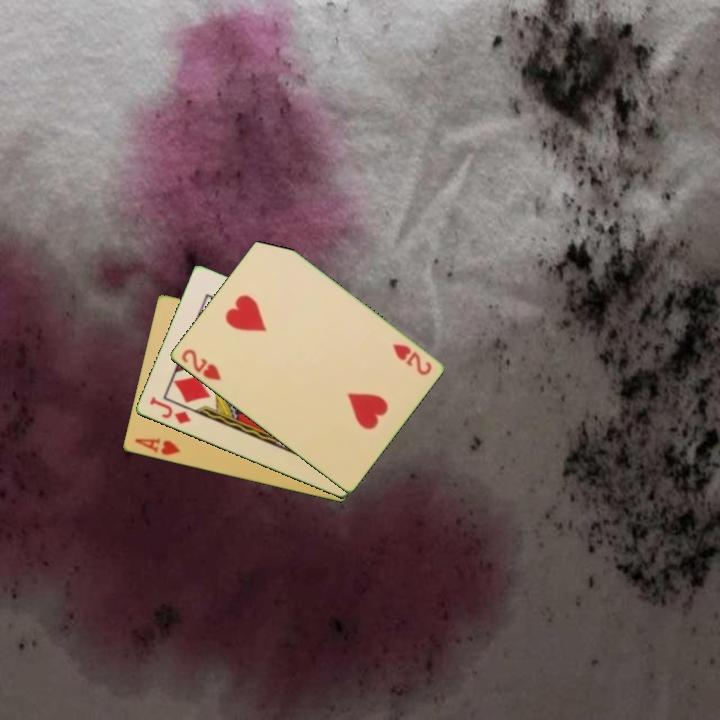2h: (178, 345, 224, 384), (389, 340, 434, 378)
Ah: (131, 435, 183, 458)
Jd: (146, 393, 194, 427)
